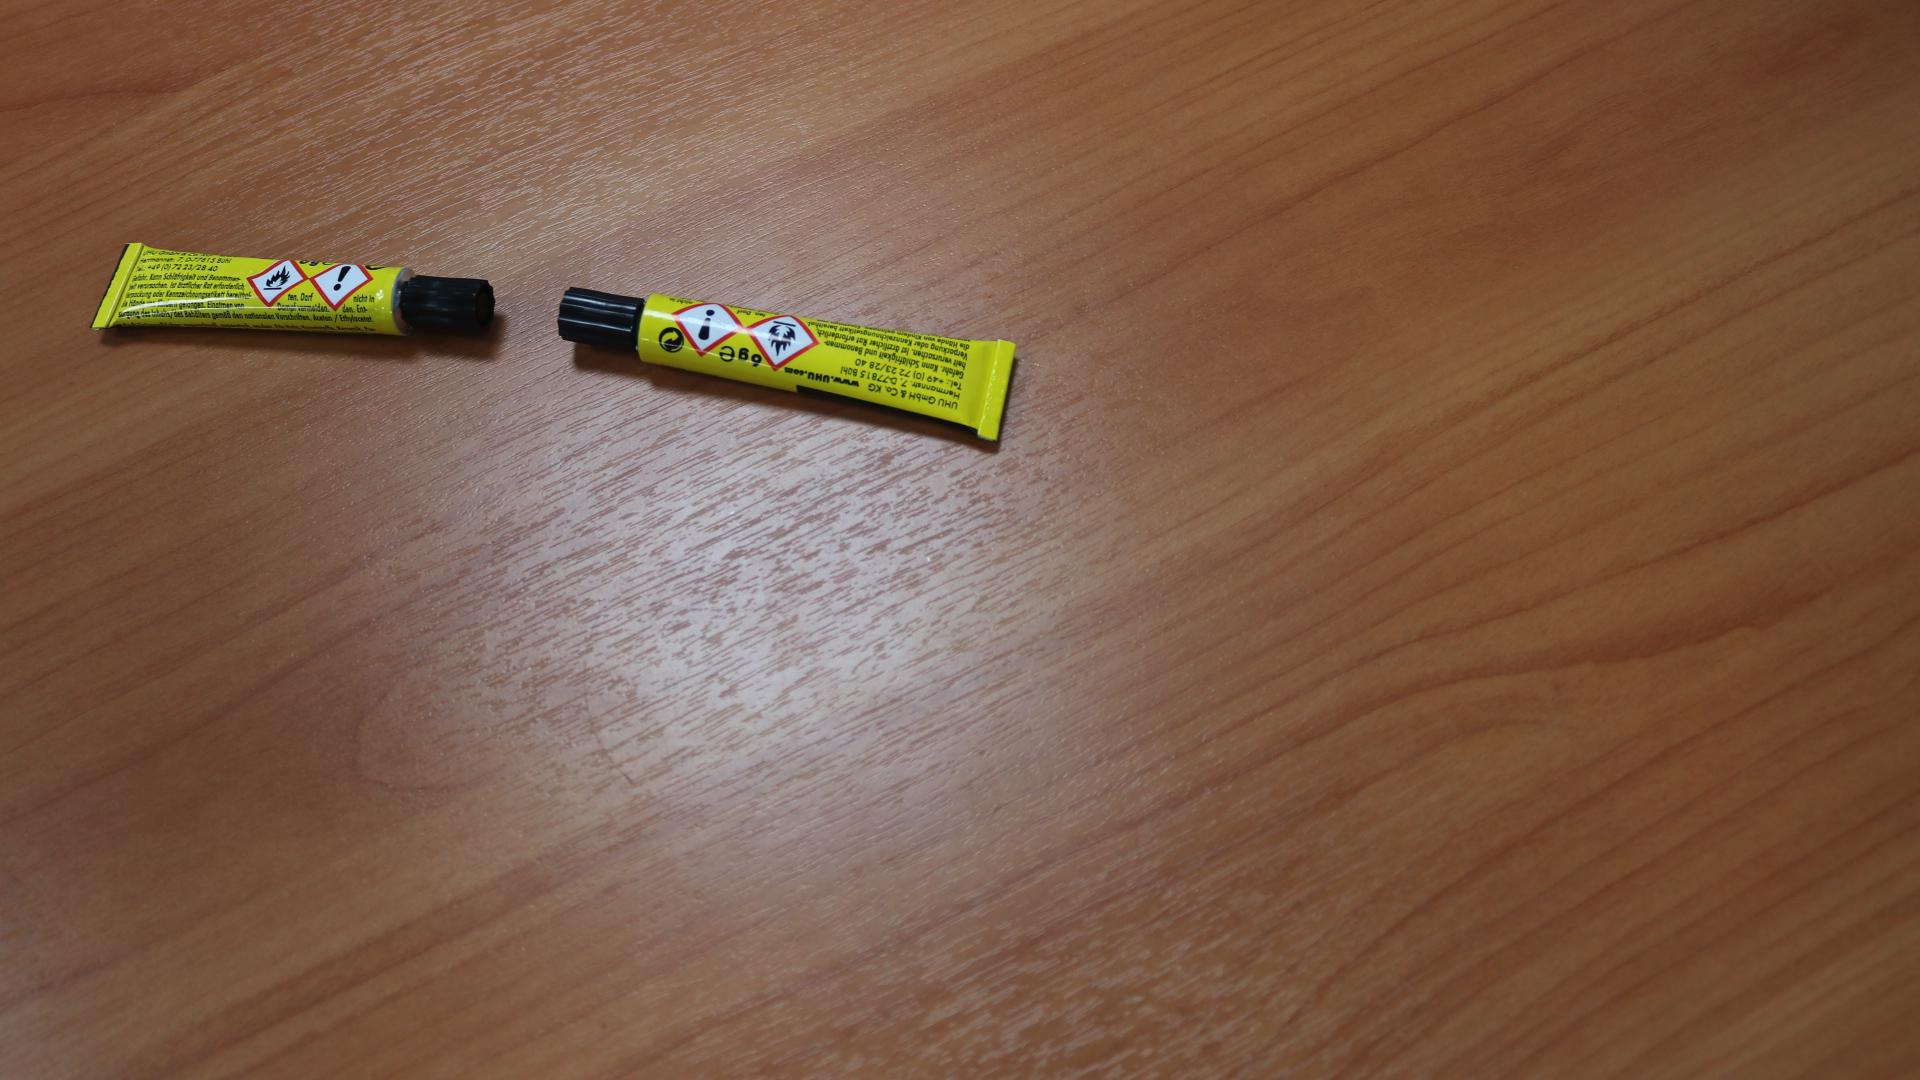Head: (435, 295, 448, 306), (594, 311, 607, 322)
Tail: (992, 384, 1005, 399), (112, 279, 123, 290)
Tube: (557, 286, 1017, 445), (91, 240, 495, 338)
